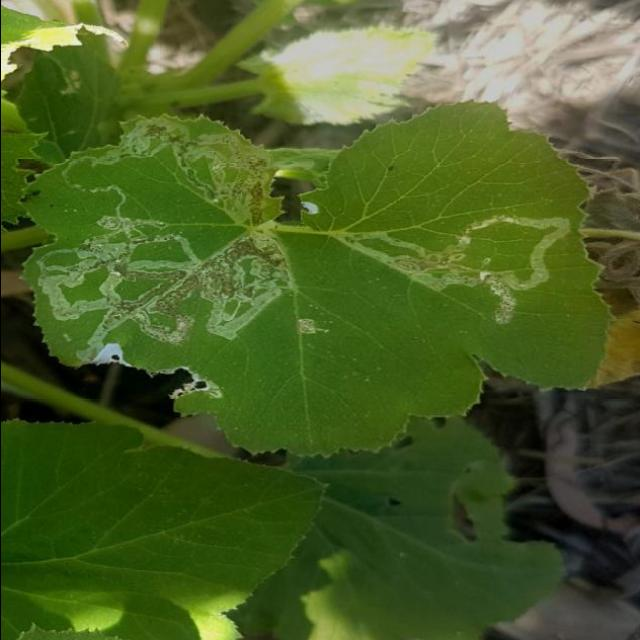Serpentine leafminer: (25, 112, 291, 365), (327, 208, 580, 328)
